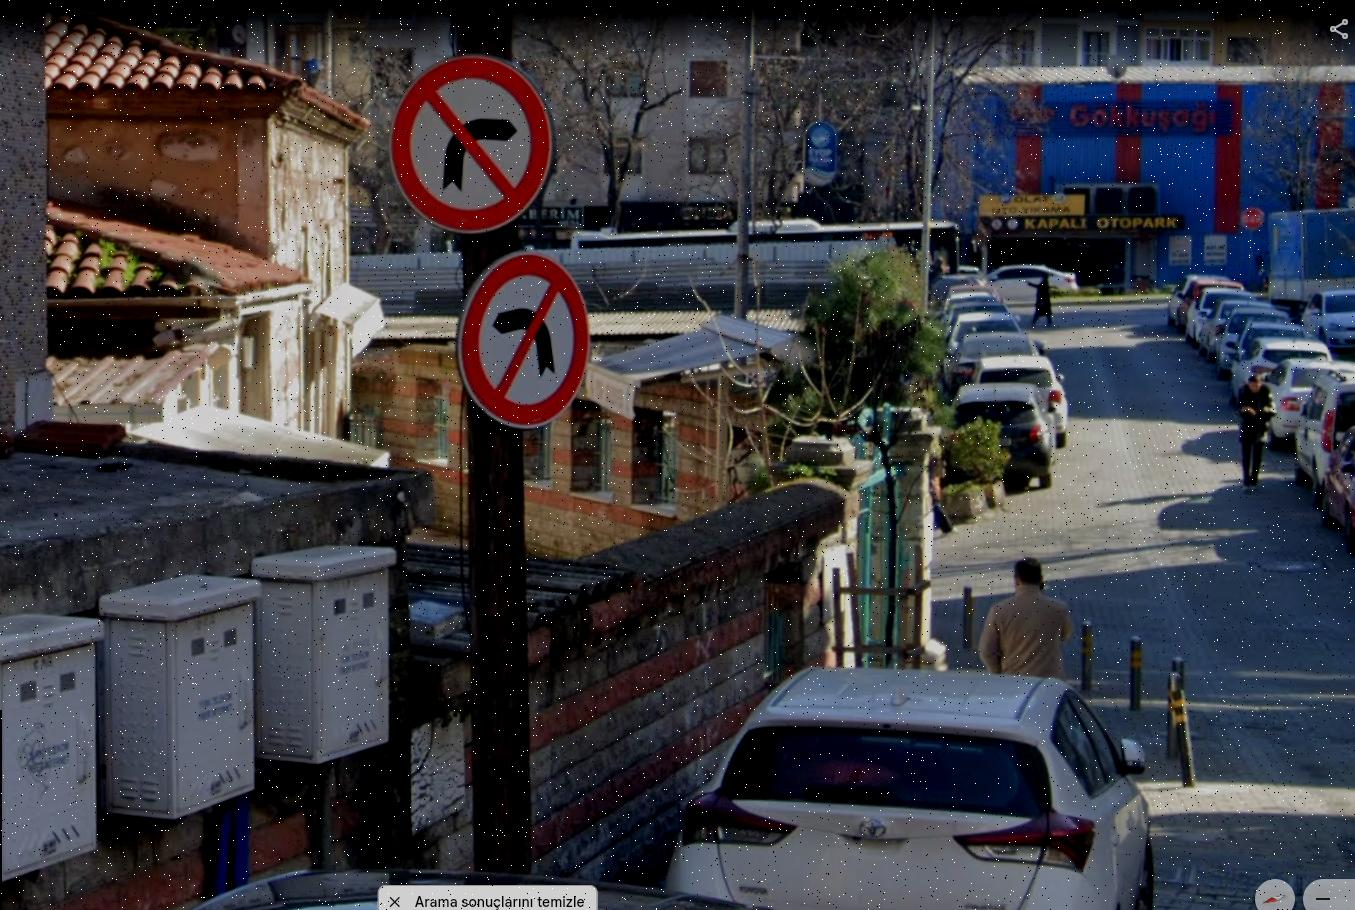leftturnsareforbidden: (463, 250, 595, 434)
rightturnsareforbidden: (394, 60, 554, 218)
